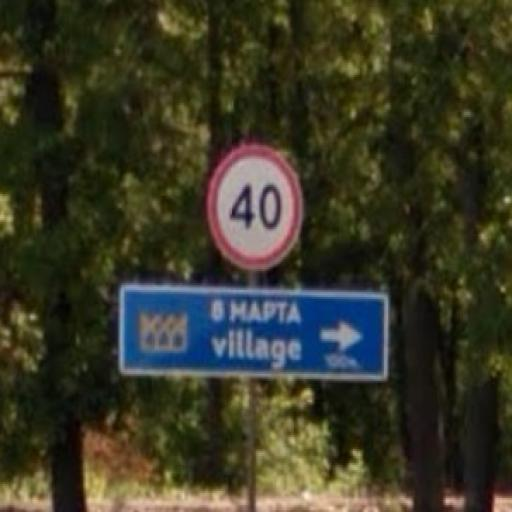traffic_sign: (208, 144, 306, 274)
